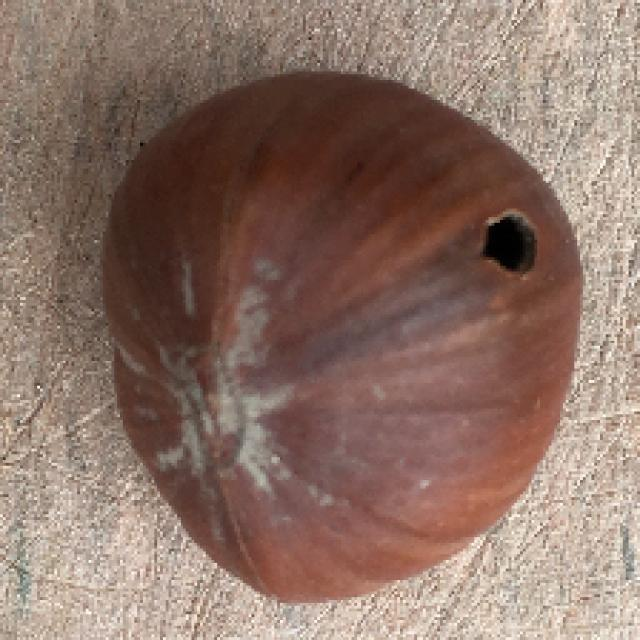damagedHazelnut: (88, 64, 608, 598)
